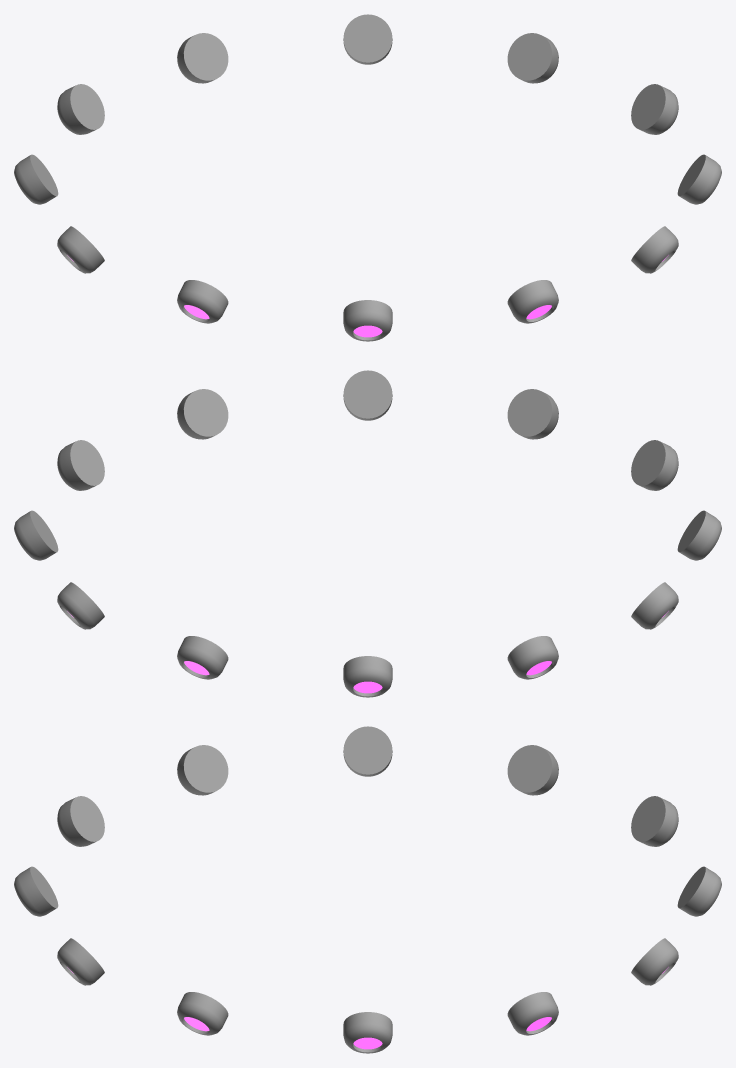
File: InnerLights.gltf
3 views of the same model, one above another, from view 1: azimuth 30°, elevation 25°; view 2: azimuth 150°, elevation 25°; view 3: azimuth 270°, elevation 25° (orthographic).
Visible parts, largest first — view 1: InnerLight; view 2: InnerLight; view 3: InnerLight.
Part boxes in pixels (x1=…): InnerLight: x1=14, y1=14, x2=721, y2=341; InnerLight: x1=14, y1=370, x2=721, y2=697; InnerLight: x1=14, y1=726, x2=721, y2=1053.
Bounding box in the file's own units: 12.14 × 0.8514 × 12.14.
